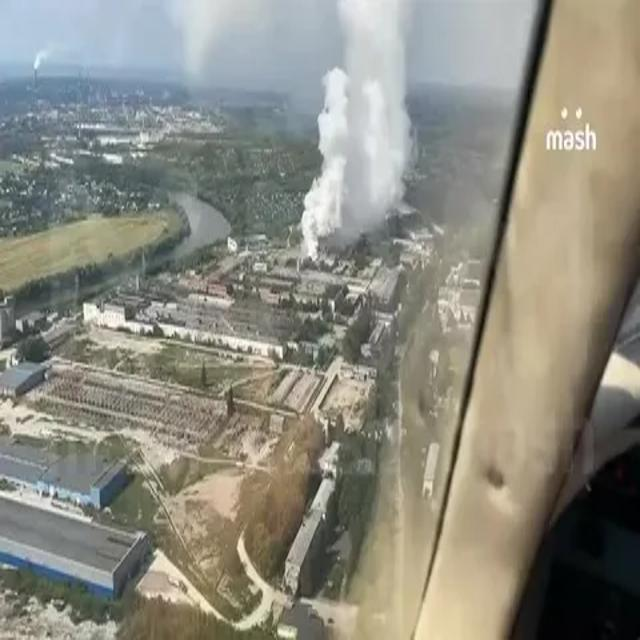Smoke: (301, 0, 424, 259)
